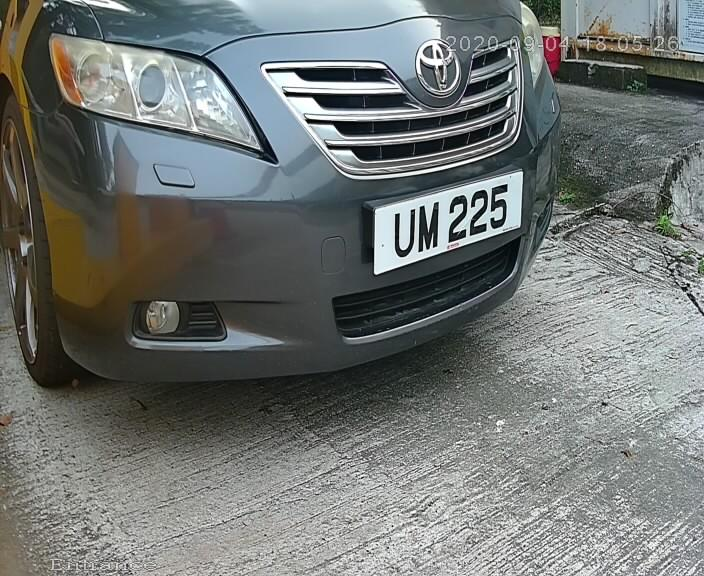Car: (19, 11, 601, 422)
License Plate: (364, 161, 530, 286)
